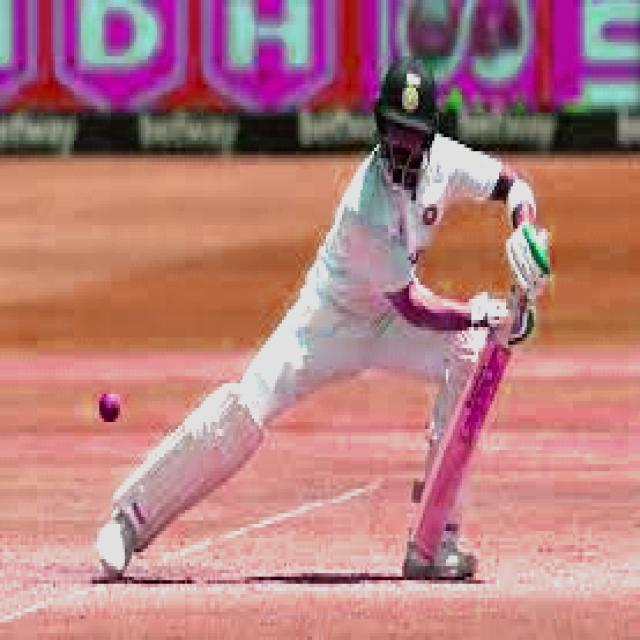bat: (404, 309, 520, 570)
toe: (409, 537, 437, 563)
